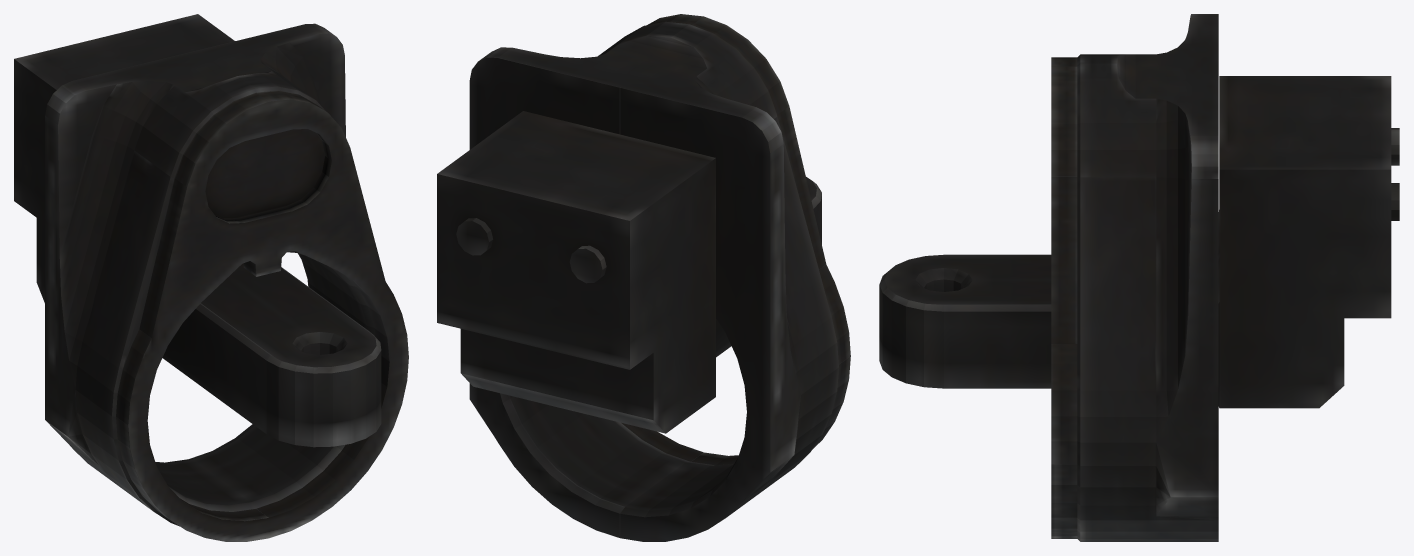
The picture shows the model from 3 angles, left to right: view 1: azimuth 30°, elevation 25°; view 2: azimuth 150°, elevation 25°; view 3: azimuth 270°, elevation 25°; orthographic projection. The views are drawn at different scales.
Visible parts, largest first — view 1: TW_628a6678ccaab13006640e49_PZ_Import; view 2: TW_628a6678ccaab13006640e49_PZ_Import; view 3: TW_628a6678ccaab13006640e49_PZ_Import.
Part boxes in pixels (x1,y1,x2,y2): TW_628a6678ccaab13006640e49_PZ_Import: (14, 14, 408, 541); TW_628a6678ccaab13006640e49_PZ_Import: (437, 14, 850, 541); TW_628a6678ccaab13006640e49_PZ_Import: (879, 14, 1399, 541).
Size of the model in its own units: 0.0206 by 0.0309 by 0.0303.
1 material, 1 textured.
